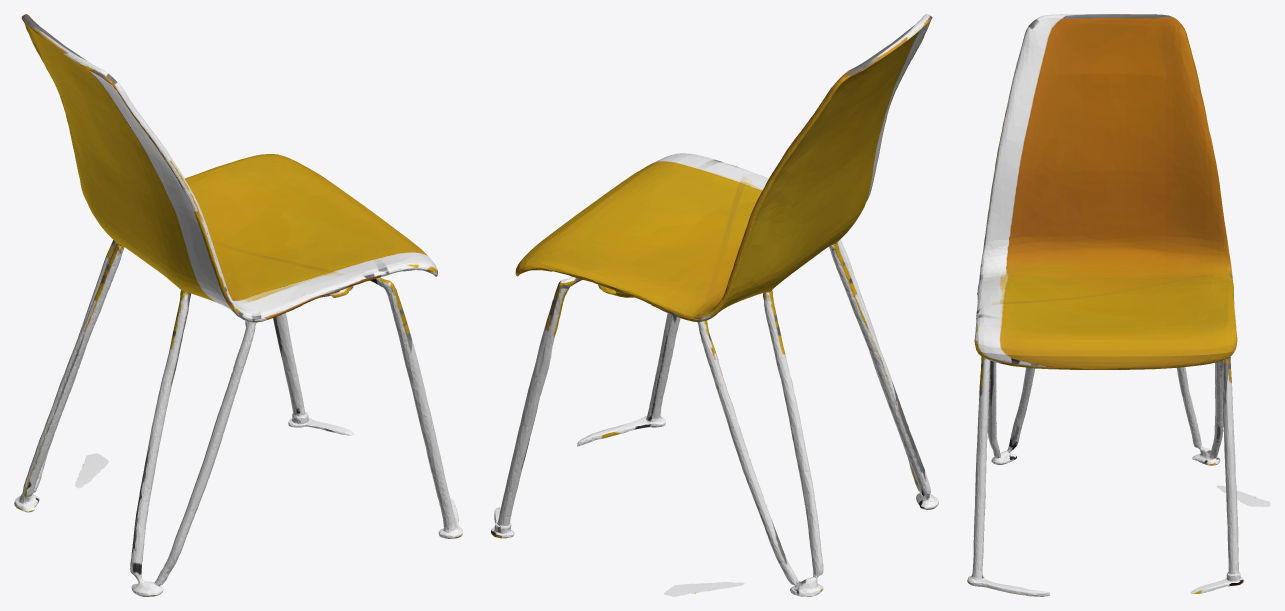
Rendered from dining_chair_2.obj.
3 renders of one model, left to right at view 1: azimuth 30°, elevation 25°; view 2: azimuth 150°, elevation 25°; view 3: azimuth 270°, elevation 25°, orthographic. The views are drawn at different scales.
Bounding box in the file's own units: 0.6518 × 0.9 × 0.5662.
1 material, 1 textured.
